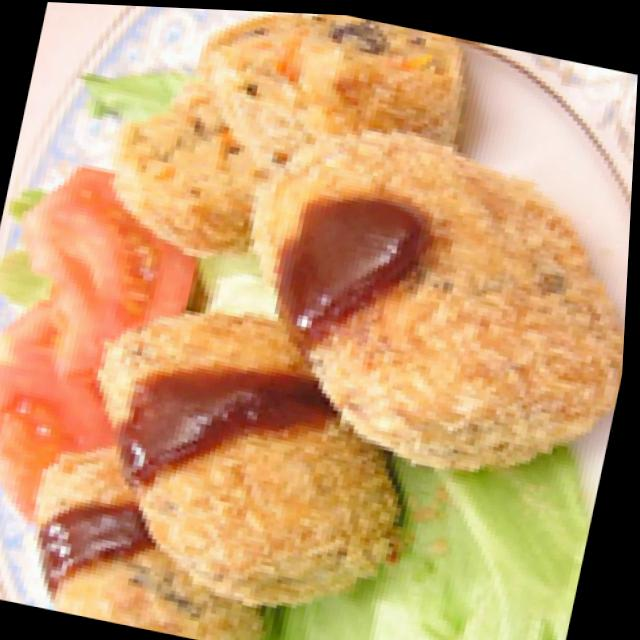炸货点心: (4, 71, 637, 640)
